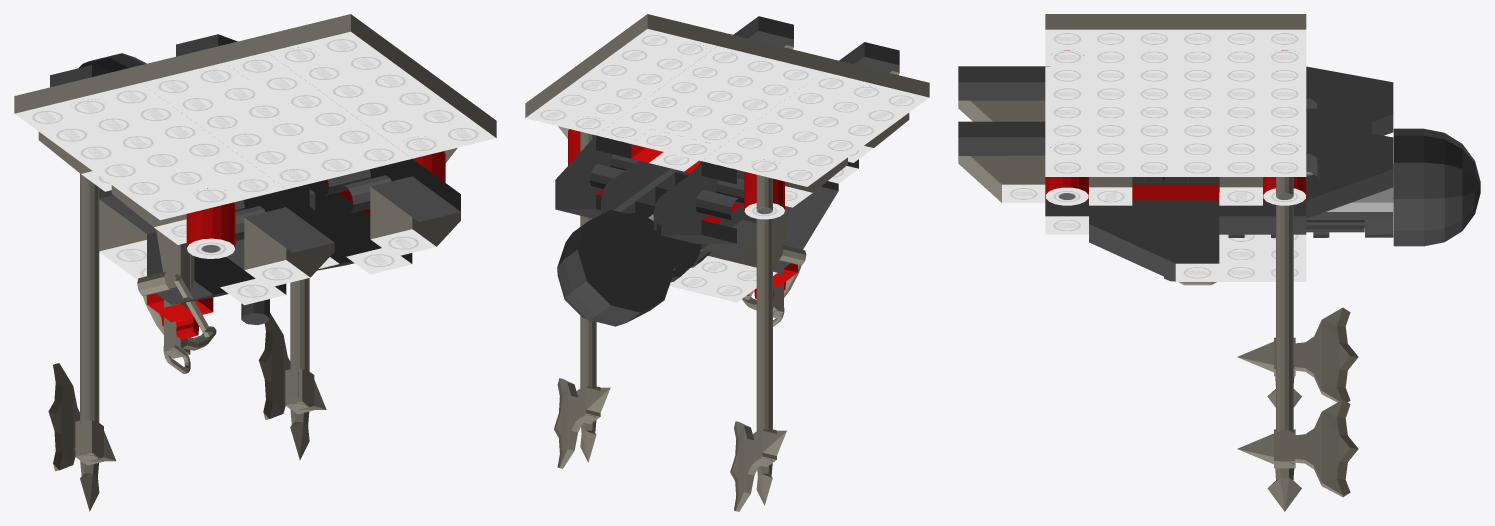
File: c3_cannon.glb
The picture shows the model from 3 angles, left to right: view 1: azimuth 30°, elevation 25°; view 2: azimuth 150°, elevation 25°; view 3: azimuth 270°, elevation 25°; orthographic projection. The views are drawn at different scales.
Parts seen in each view (by area): view 1: 028_OC_6096B4_PART_1, 040_OC_6096B4_PART_10, 025_OC_6096B4_AXE, 031_OC_6096B4_PART_5, 022_OC_6096B4_AXE, 056_L_257000, 047_OC_6096B4_PART_3, 036_OC_6096B4__PART_6, 039_OC_6096B4_PART_10_Tubes, 044_OC_6096B4_CLIP, 019_OC_6096B4_CANNON, 004_OC_6096B4_Plunger; view 2: 028_OC_6096B4_PART_1, 040_OC_6096B4_PART_10, 004_OC_6096B4_Plunger, 025_OC_6096B4_AXE, 019_OC_6096B4_CANNON, 022_OC_6096B4_AXE, 036_OC_6096B4__PART_6, 039_OC_6096B4_PART_10_Tubes, 056_L_257000, 047_OC_6096B4_PART_3, 034_CO_6096B4_PART_2; view 3: 028_OC_6096B4_PART_1, 040_OC_6096B4_PART_10, 022_OC_6096B4_AXE, 004_OC_6096B4_Plunger, 031_OC_6096B4_PART_5, 025_OC_6096B4_AXE, 019_OC_6096B4_CANNON, 036_OC_6096B4__PART_6, 047_OC_6096B4_PART_3.
Part boxes in pixels (x1,y1,x2,y2): 028_OC_6096B4_PART_1: (14,14,496,244); 040_OC_6096B4_PART_10: (50,34,460,305); 025_OC_6096B4_AXE: (48,173,115,511); 031_OC_6096B4_PART_5: (244,187,460,287); 022_OC_6096B4_AXE: (258,278,326,459); 056_L_257000: (137,229,216,373); 047_OC_6096B4_PART_3: (66,47,445,258); 036_OC_6096B4__PART_6: (99,199,146,279); 039_OC_6096B4_PART_10_Tubes: (234,169,391,241); 044_OC_6096B4_CLIP: (147,293,213,339); 019_OC_6096B4_CANNON: (241,184,309,325); 004_OC_6096B4_Plunger: (78,53,146,72); 028_OC_6096B4_PART_1: (525,14,929,207); 040_OC_6096B4_PART_10: (555,16,899,272); 004_OC_6096B4_Plunger: (557,210,673,326); 025_OC_6096B4_AXE: (730,175,786,511); 019_OC_6096B4_CANNON: (601,160,713,282); 022_OC_6096B4_AXE: (554,131,610,468); 036_OC_6096B4__PART_6: (669,229,777,302); 039_OC_6096B4_PART_10_Tubes: (590,154,744,221); 056_L_257000: (742,206,806,326); 047_OC_6096B4_PART_3: (568,42,885,219); 034_CO_6096B4_PART_2: (631,144,701,172); 028_OC_6096B4_PART_1: (1045,14,1306,205); 040_OC_6096B4_PART_10: (958,66,1393,281); 022_OC_6096B4_AXE: (1237,177,1358,511); 004_OC_6096B4_Plunger: (1306,128,1480,246); 031_OC_6096B4_PART_5: (958,100,1045,202); 025_OC_6096B4_AXE: (1237,307,1358,407); 019_OC_6096B4_CANNON: (1164,108,1393,281); 036_OC_6096B4__PART_6: (1219,234,1306,281); 047_OC_6096B4_PART_3: (1046,50,1305,205).
Bounding box in the file's own units: 6.4 × 7.68 × 9.6.
Materials: 10 (2 with a texture image).
